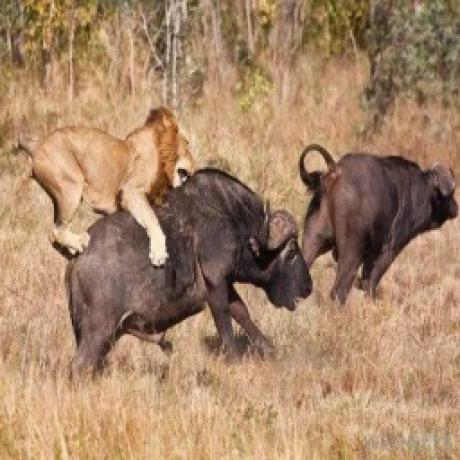Lion: (10, 105, 198, 273)
